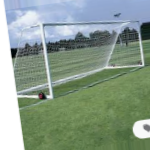goals: (12, 17, 150, 101)
